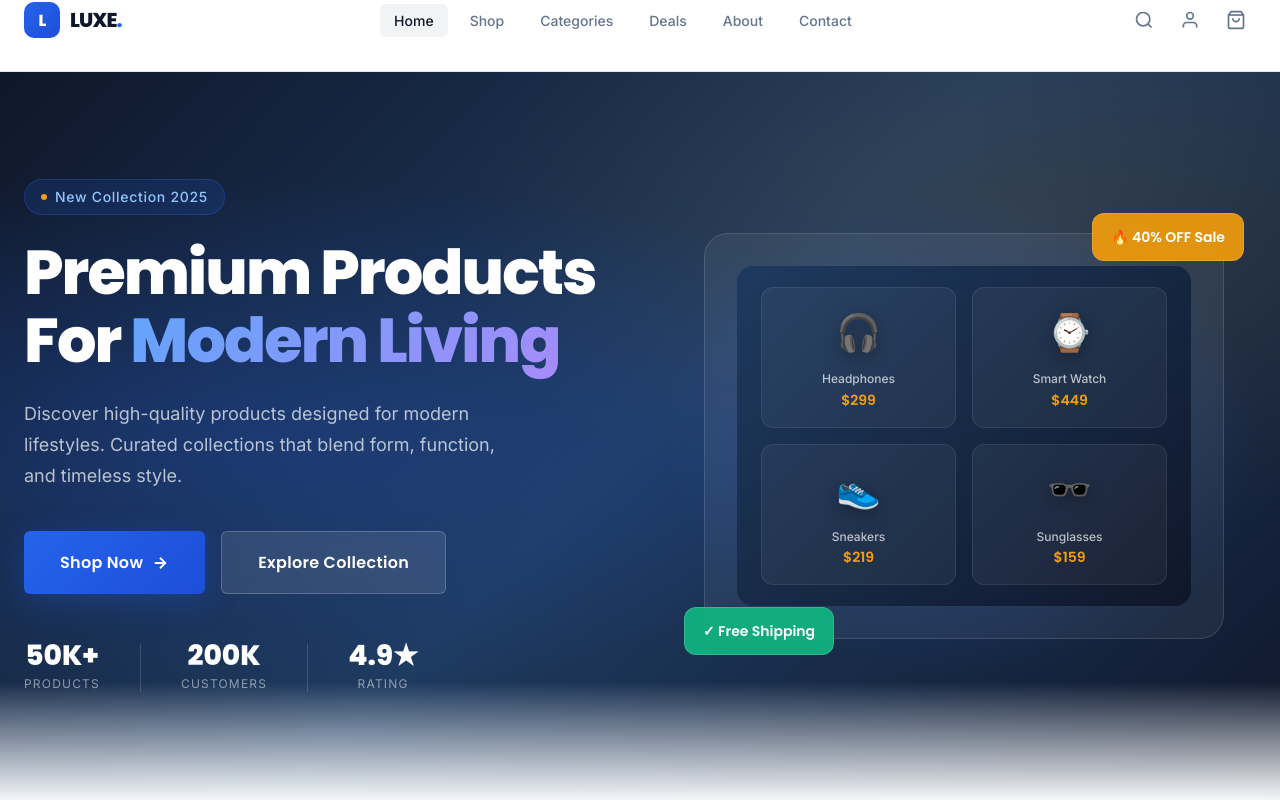
it: can navigate to About page
Step 1. Click the button "About" → coordinates (743, 20), box [709,4,777,36]
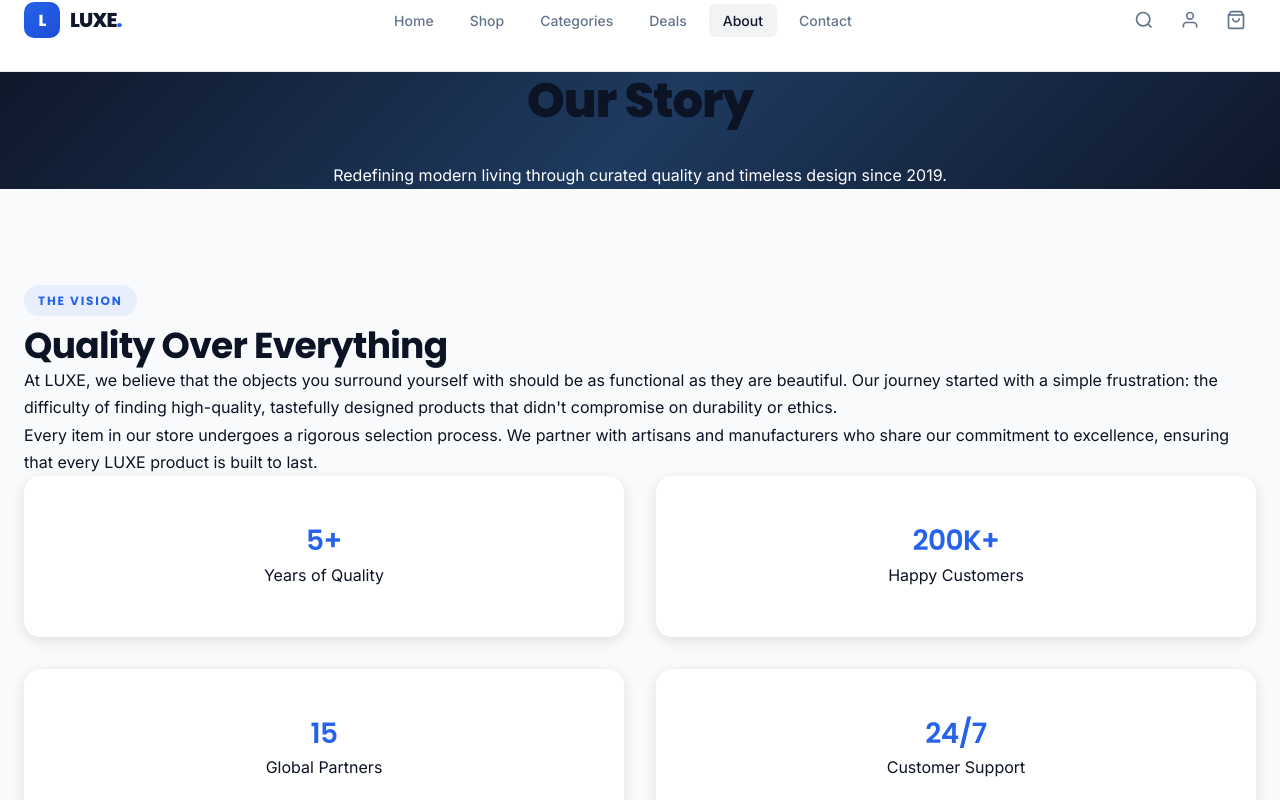
Now the heading "Our Story" is shown, box [527,67,753,134]
